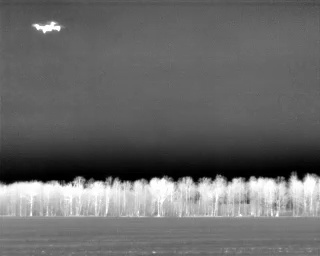DRONE: (28, 16, 68, 38)
